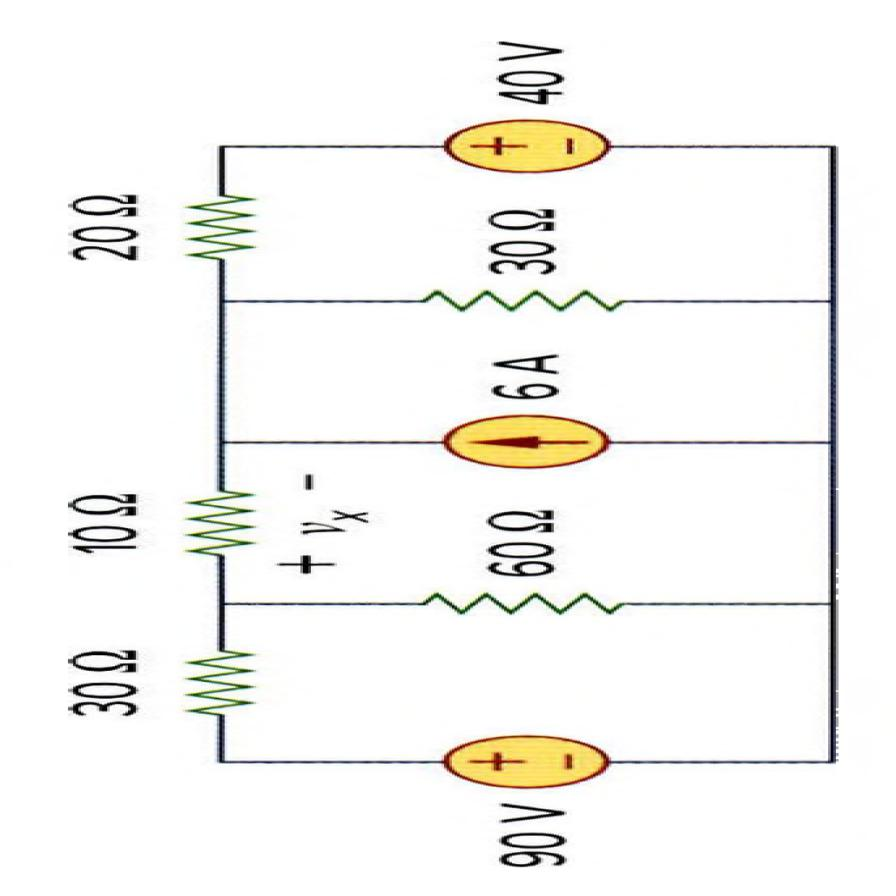I4: (414, 411, 623, 473)
V4: (422, 115, 625, 177), (429, 728, 613, 793)
